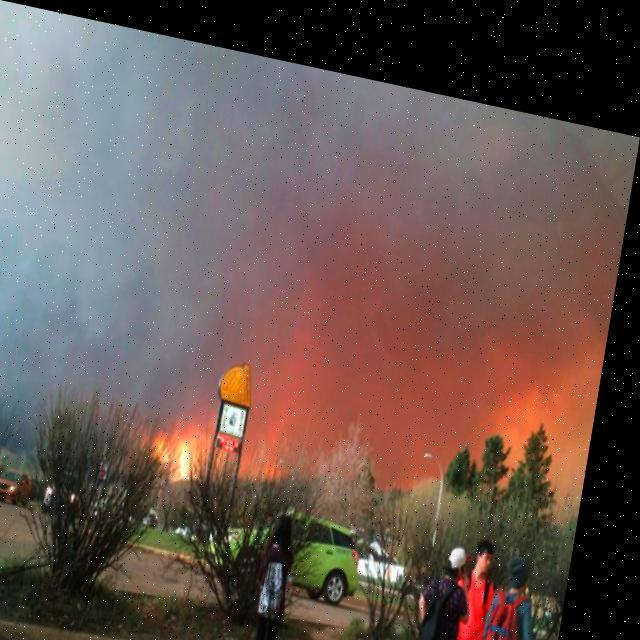Fire: (162, 394, 230, 486)
